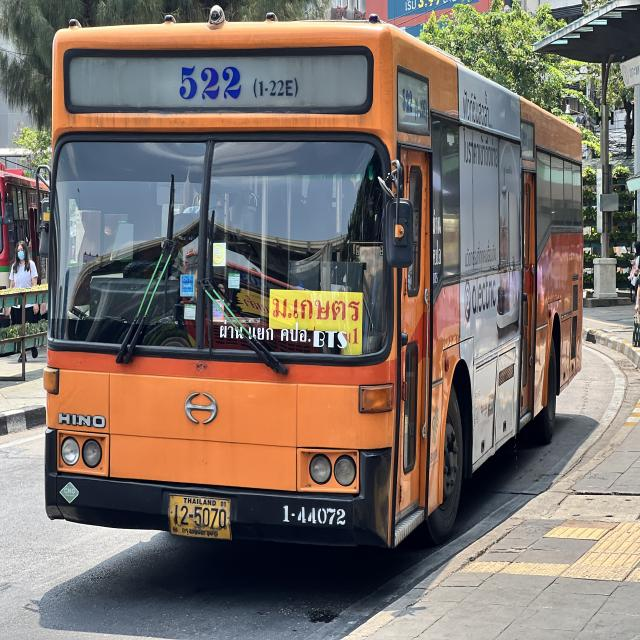BMTA-bus: (41, 8, 587, 553)
Bus-Line-Number: (168, 59, 302, 107)
Destination-Sign-Extra-Bus-Expressway: (270, 289, 362, 356)
